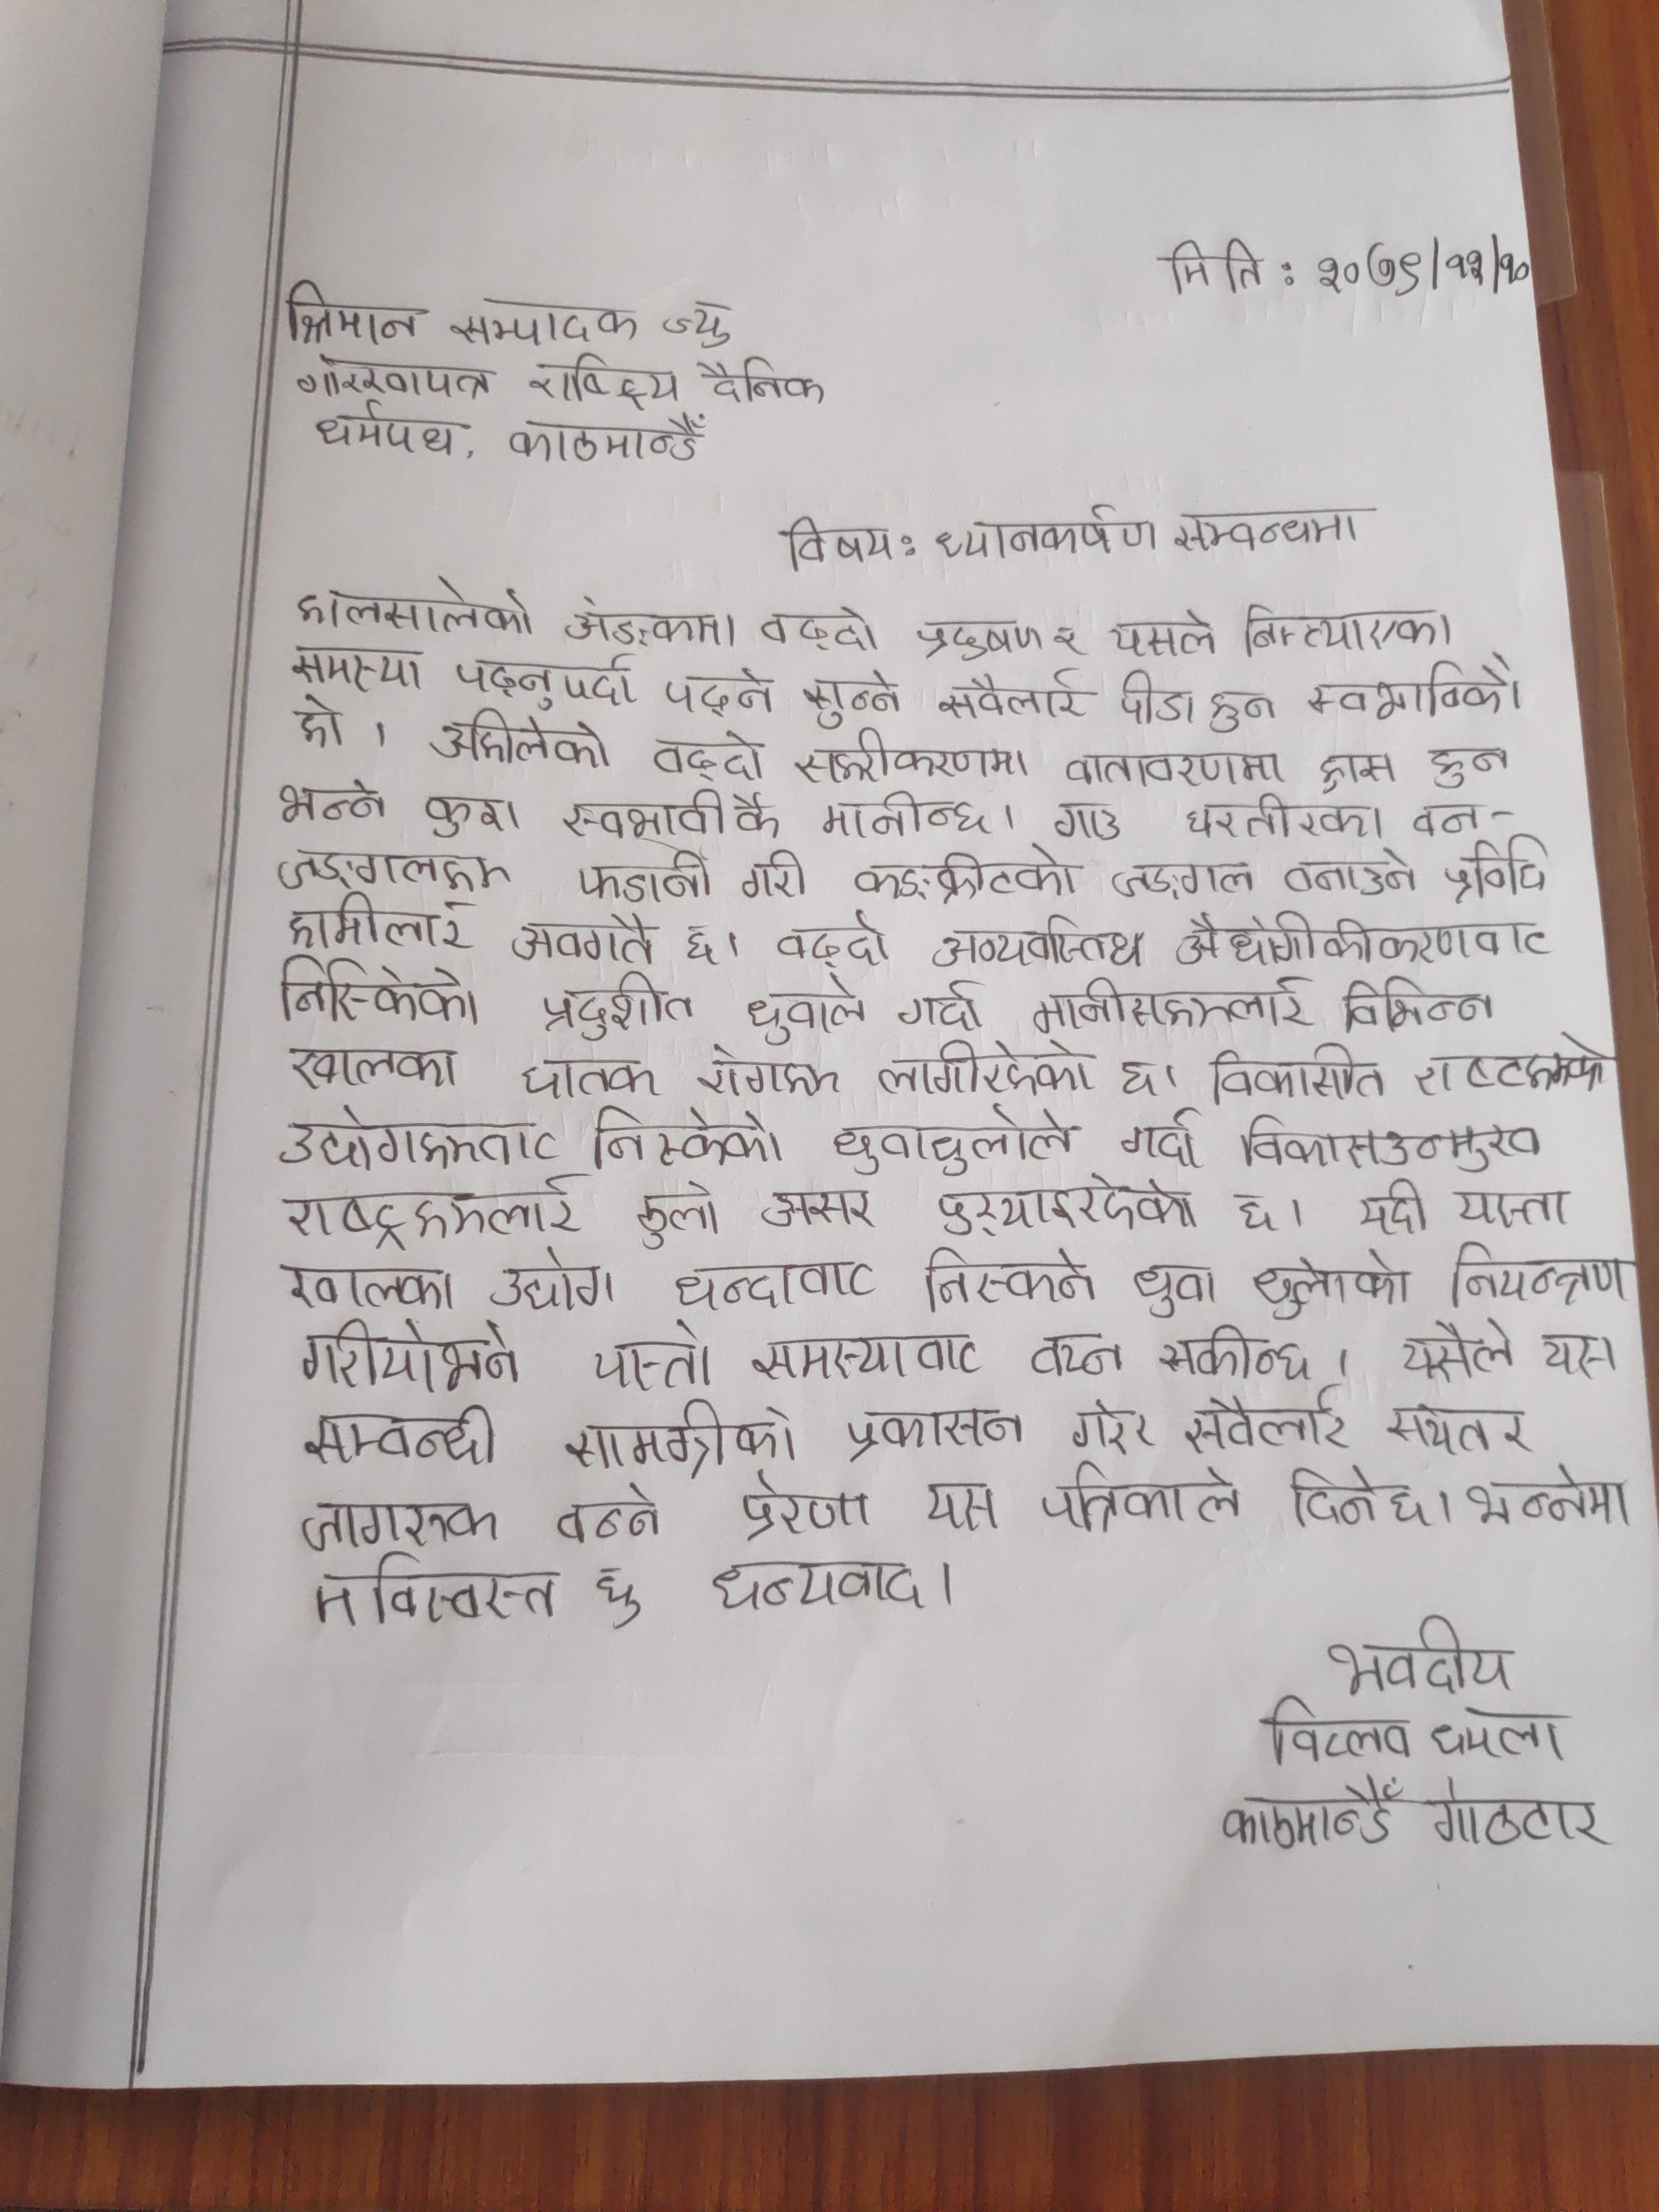text: (1171, 897, 1553, 972), (272, 1174, 589, 1247), (307, 1550, 573, 1630), (1239, 1111, 1551, 1177), (270, 1101, 565, 1170), (932, 1174, 1209, 1245), (558, 1404, 798, 1477), (1033, 975, 1319, 1036), (295, 1320, 523, 1395), (267, 951, 477, 1029), (1319, 1611, 1513, 1696), (291, 575, 538, 639), (830, 1109, 1080, 1172), (1298, 655, 1528, 721), (293, 1400, 504, 1472), (1434, 1238, 1635, 1313), (1030, 1460, 1239, 1531), (589, 1103, 791, 1176), (1420, 1773, 1615, 1848), (1213, 1778, 1403, 1855), (849, 845, 1080, 907), (932, 911, 1154, 975), (875, 1040, 1108, 1101), (1201, 1036, 1387, 1111), (1412, 1033, 1622, 1099), (286, 1493, 516, 1552), (932, 502, 1161, 561), (504, 401, 711, 465), (1230, 599, 1466, 655), (791, 733, 1033, 787), (444, 287, 647, 352), (286, 341, 491, 404), (1175, 1388, 1359, 1458), (711, 1559, 934, 1616), (920, 1245, 1108, 1313), (1460, 1460, 1635, 1533), (749, 1327, 985, 1381), (1253, 1689, 1419, 1766), (258, 843, 509, 894), (1283, 1454, 1436, 1536), (669, 1258, 875, 1318), (1314, 239, 1532, 296), (1053, 737, 1295, 787), (563, 592, 748, 658), (552, 791, 786, 843), (1373, 1390, 1539, 1463), (274, 897, 477, 956), (1164, 496, 1380, 552), (439, 704, 620, 770), (451, 653, 641, 714), (1154, 1320, 1317, 1390), (1328, 968, 1506, 1031), (537, 977, 701, 1043), (1256, 1251, 1410, 1320), (840, 1407, 1032, 1463), (1183, 792, 1394, 843), (281, 1040, 464, 1097), (277, 1263, 462, 1318), (816, 782, 993, 840), (279, 280, 429, 348), (525, 345, 685, 408), (305, 402, 457, 465), (742, 975, 866, 1052), (739, 1470, 870, 1541), (929, 669, 1091, 726), (1427, 1698, 1570, 1763), (1392, 1313, 1520, 1385), (591, 1324, 716, 1395), (579, 846, 716, 911), (486, 1247, 622, 1312), (695, 1045, 852, 1101), (547, 1477, 671, 1547), (268, 773, 390, 841), (772, 510, 901, 573), (286, 639, 422, 698), (509, 918, 662, 970), (514, 1054, 673, 1103), (1445, 840, 1563, 904), (762, 599, 880, 662), (1450, 1174, 1568, 1235), (688, 354, 831, 404), (1107, 604, 1225, 664), (664, 665, 786, 723), (1161, 230, 1265, 296), (1112, 857, 1263, 902), (634, 1177, 721, 1256), (1127, 1252, 1223, 1322), (904, 615, 1039, 664), (1108, 662, 1204, 730), (650, 726, 763, 784), (769, 920, 901, 968), (1019, 1327, 1127, 1385), (765, 1183, 889, 1231), (796, 672, 901, 730), (416, 786, 523, 841), (1349, 1176, 1436, 1244), (1121, 1104, 1208, 1170), (896, 977, 990, 1038), (1274, 857, 1420, 895), (1066, 1395, 1155, 1458), (922, 1477, 1007, 1538), (660, 287, 739, 352), (1042, 794, 1131, 848), (1417, 737, 1509, 787), (1310, 749, 1408, 796), (1539, 1324, 1615, 1381), (737, 848, 812, 904), (1204, 688, 1276, 744), (1403, 796, 1493, 840), (591, 1568, 648, 1635), (293, 690, 352, 751), (1110, 1052, 1164, 1103), (1237, 1188, 1284, 1231), (678, 921, 713, 975), (1049, 617, 1091, 655)
